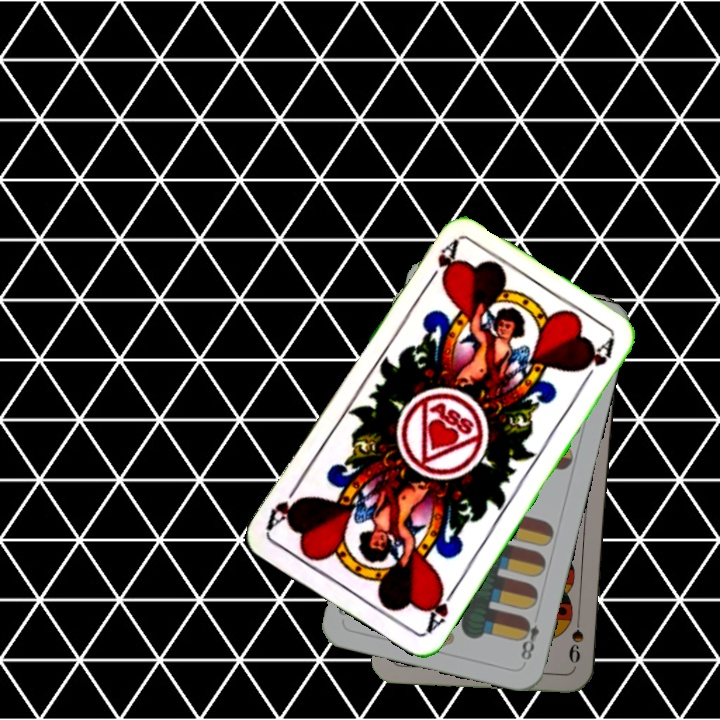E8: (516, 614, 542, 663)
HA: (421, 236, 462, 290), (422, 581, 460, 636)
S9: (565, 608, 586, 666)
